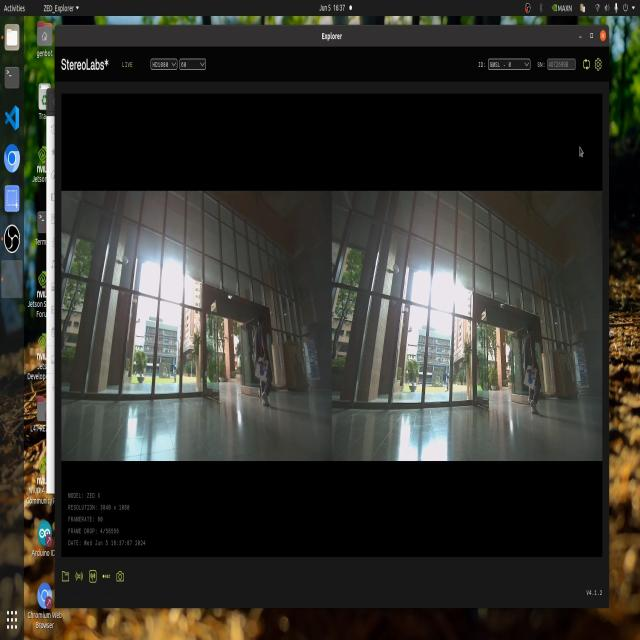blue: (516, 362, 540, 392), (256, 352, 272, 379)
